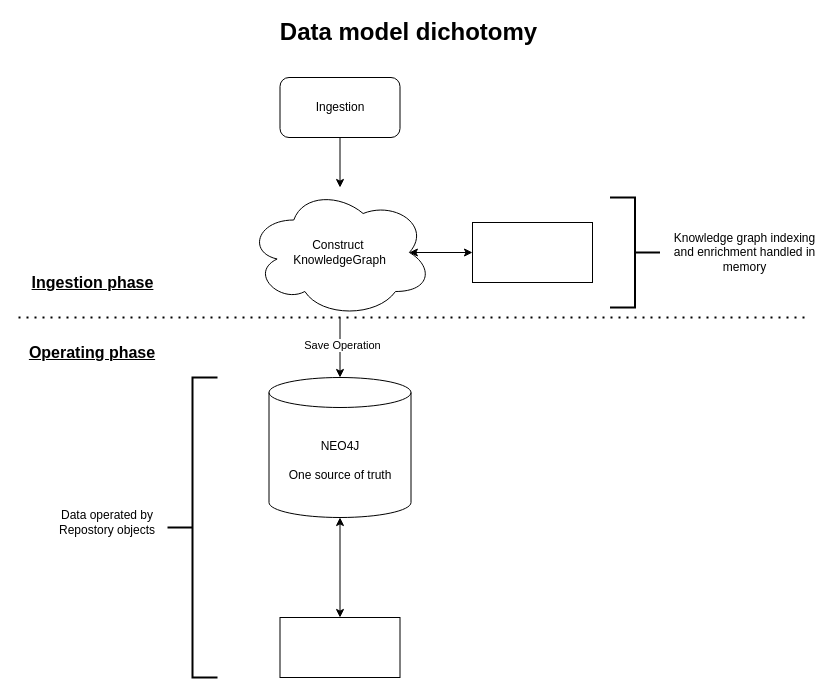
Image size: 835x695. Some labels were removed from this diagram. Here are the shapes that lost their labels. From the top down, the centre of each, then its label:
point (532, 252): Memory
point (339, 647): Spring Repository Object
